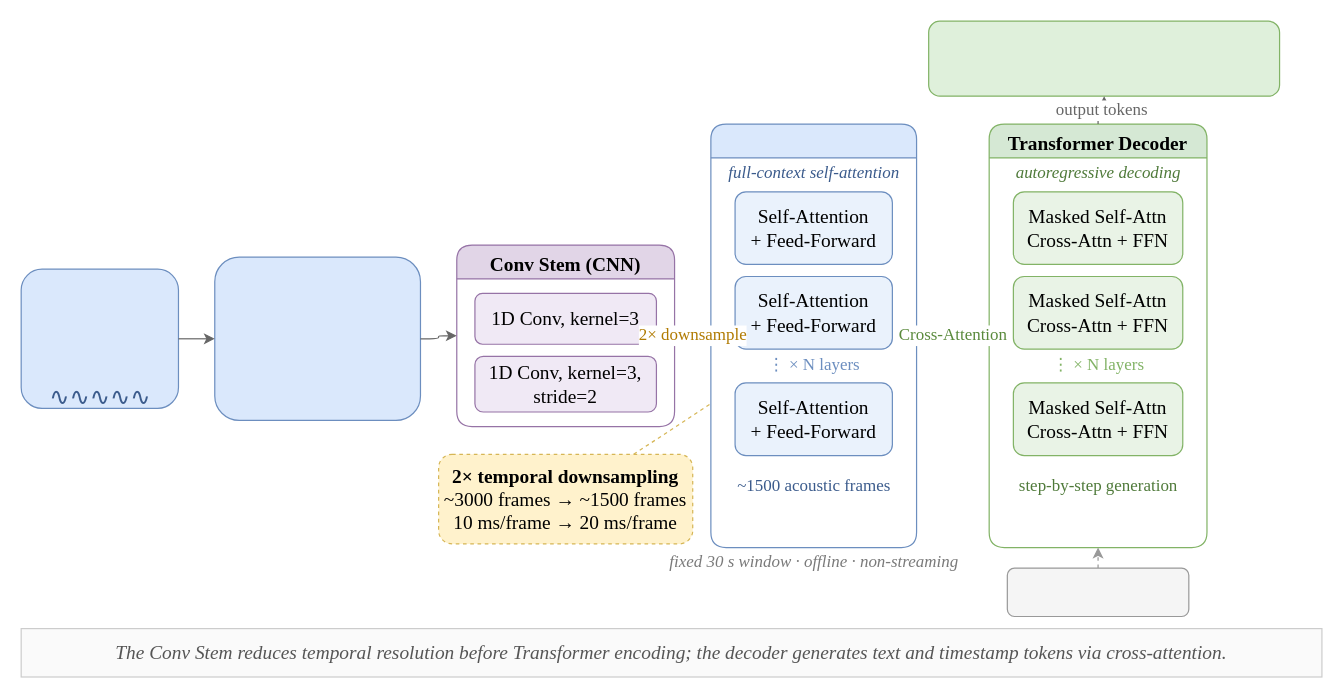
This 1343x698 diagram has some shape labels left out. Each missing label, with the box of its shape:
Log-Mel Spectrogram 80-dim Log-Mel ~3000 frames · 10 ms/frame: (214, 256, 420, 420)
Output Tokens transcript & timestamp tokens <|0.00|> hello world <|2.35|>: (927, 20, 1280, 96)
previous text tokens: (1006, 567, 1189, 616)
Raw Audio 16 kHz waveform 30 s example: (20, 268, 178, 408)
Transformer Encoder: (710, 123, 917, 548)
